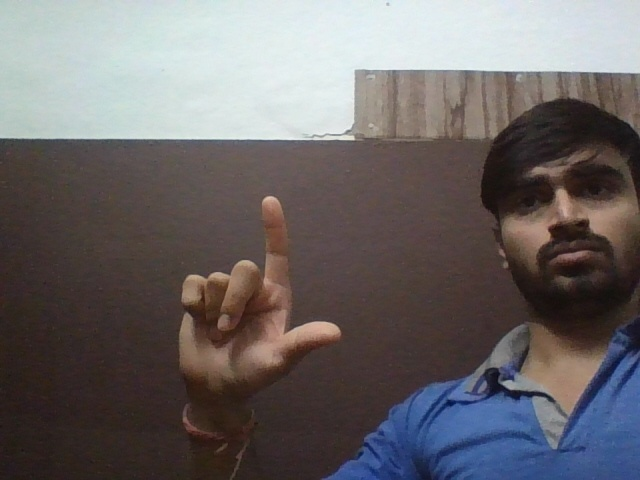L: (169, 189, 348, 401)
